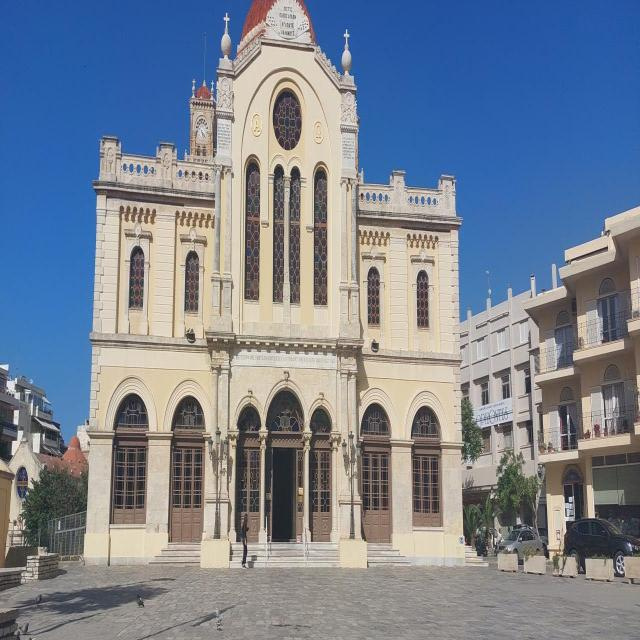Agios Minas: (84, 1, 472, 565)
